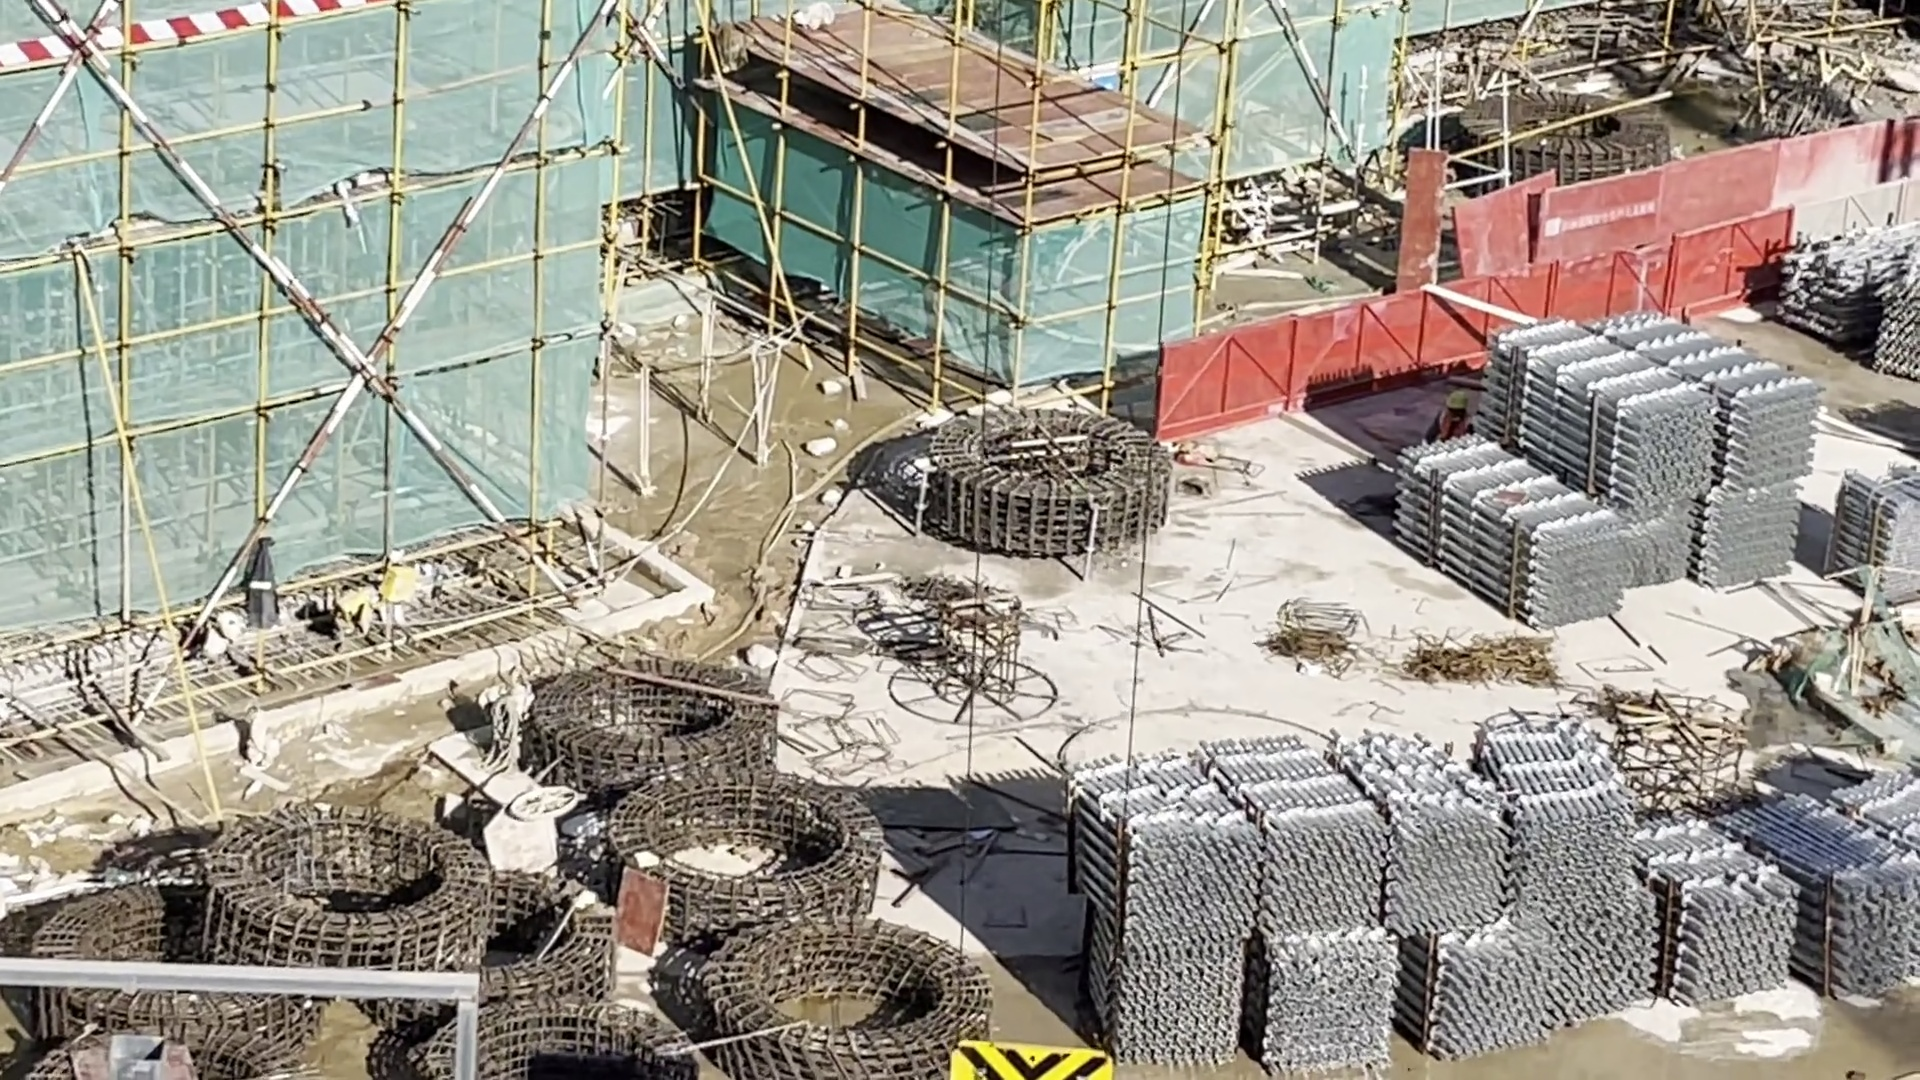fence: (1157, 177, 1920, 438)
helmet: (1439, 380, 1473, 420)
person: (1432, 383, 1484, 462)
scaffold: (1079, 728, 1920, 1070), (1399, 314, 1826, 627), (1777, 220, 1920, 381), (1835, 464, 1920, 597)
